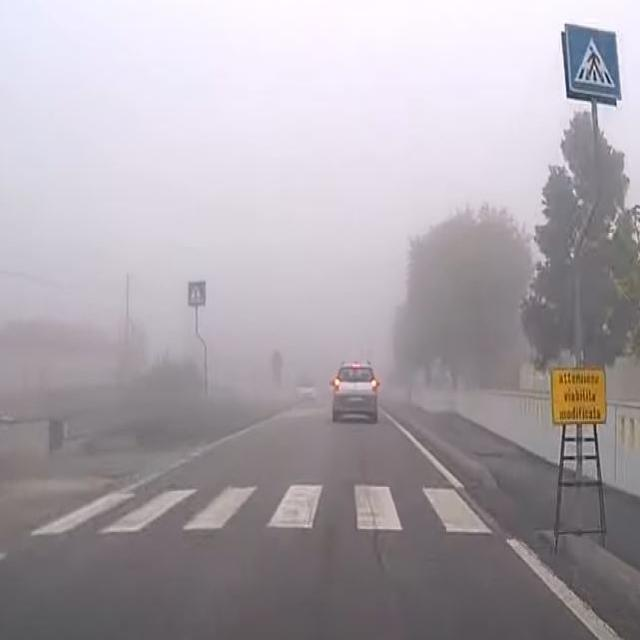Car: (332, 358, 382, 421)
Pedestrian crosswalk: (57, 481, 483, 534), (561, 24, 624, 106), (188, 280, 204, 306)
